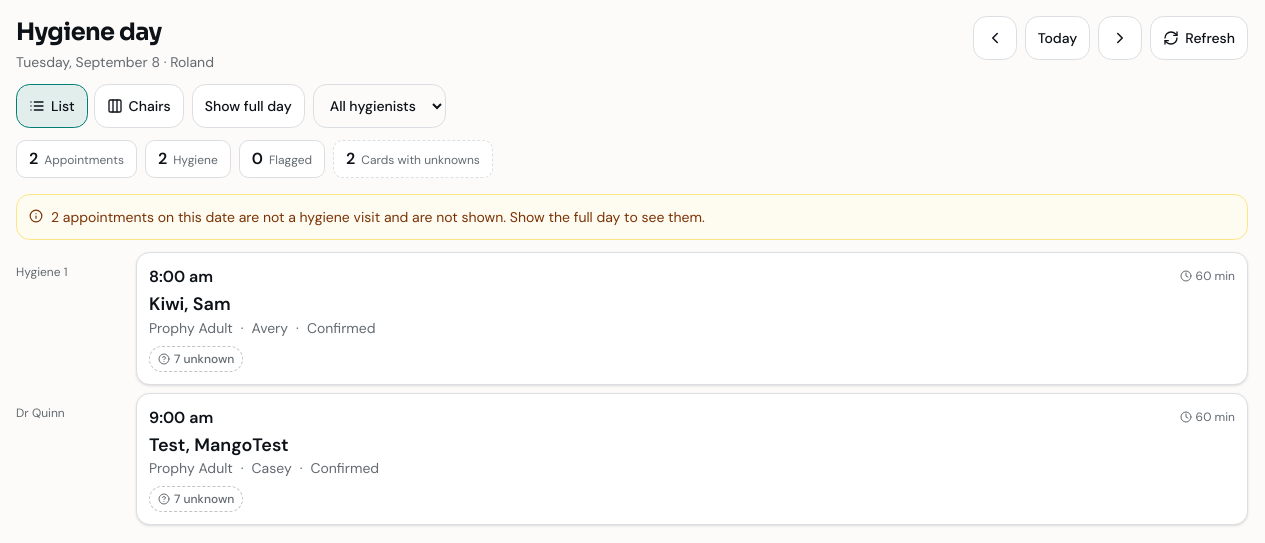
Test: the lens › the chair grid is still there, and shows the doctor's chair when it holds a hygiene visit
Expected: the element with test id "hyg-day-list" is shown, top-left (16, 252), bottom-right (1248, 525)
What coordinates should you click on to do the following:
click the button with test id "hyg-view-grid"
I would click on:
 (139, 106)
Its box is top-left (94, 84), bottom-right (184, 128).
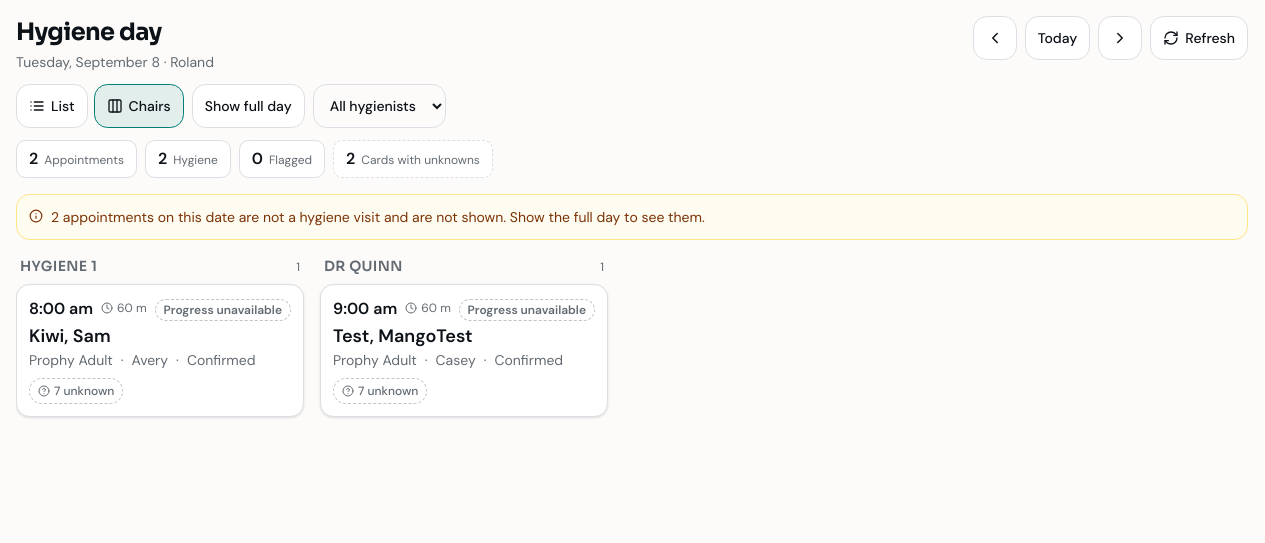
Now the element with test id "hyg-day-columns" shows "Hygiene 1", box top-left (20, 257), bottom-right (97, 275)
Now the element with test id "hyg-day-columns" shows "Dr Quinn", box top-left (324, 257), bottom-right (403, 275)
